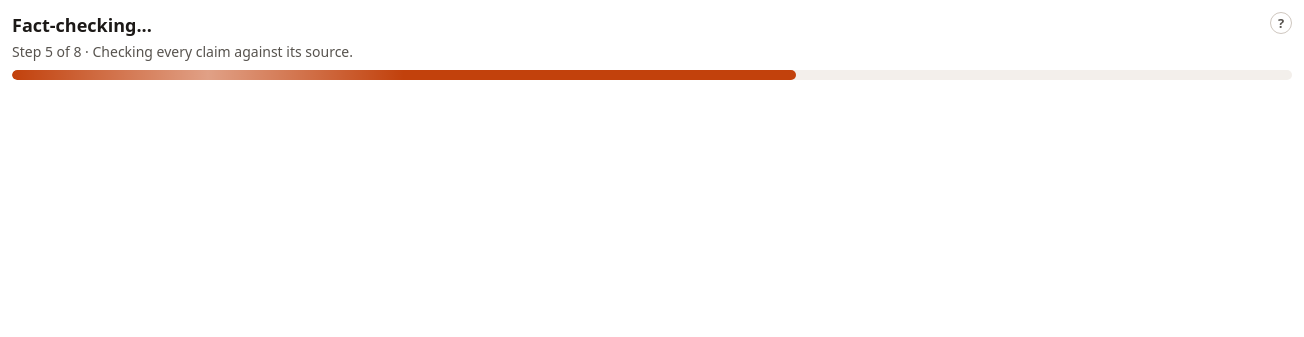
Test: pipeline explainer › opens a sentence for each of the eight steps, marking the current one
Click the button named "What the steps mean". click: (1281, 23)
box: [1270,12,1292,34]
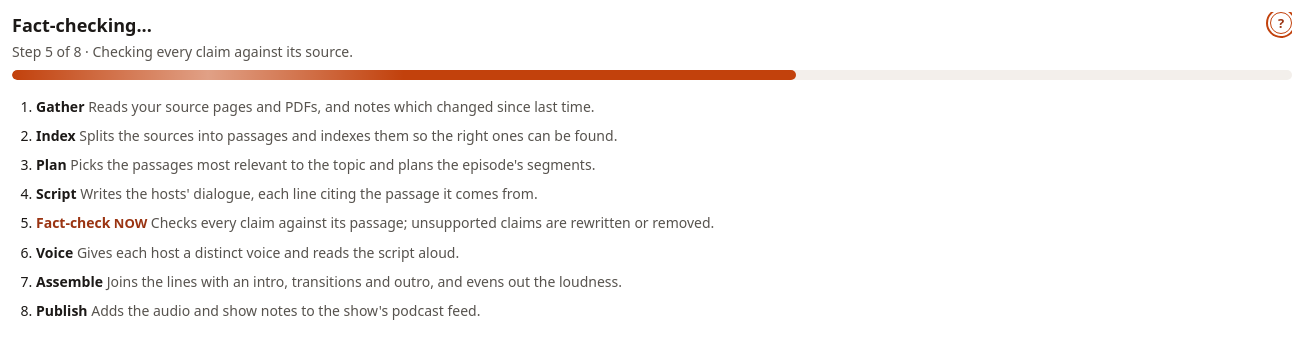
Expected: the button named "What the steps mean" is expanded, [1270,12,1292,34]
